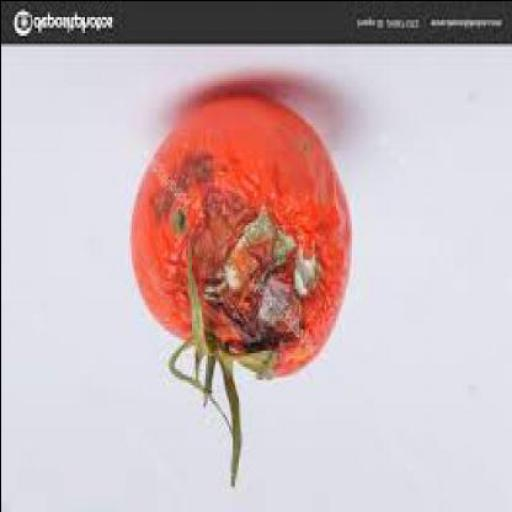biodegradable: (127, 96, 348, 490)
